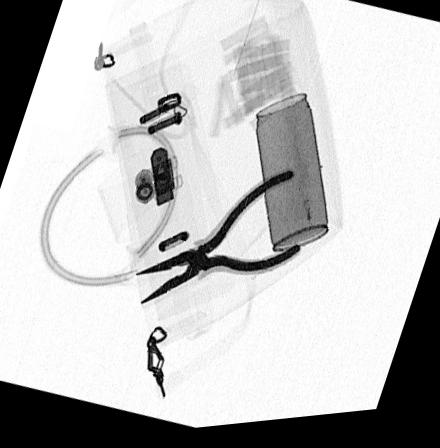Pliers: (129, 174, 304, 312)
